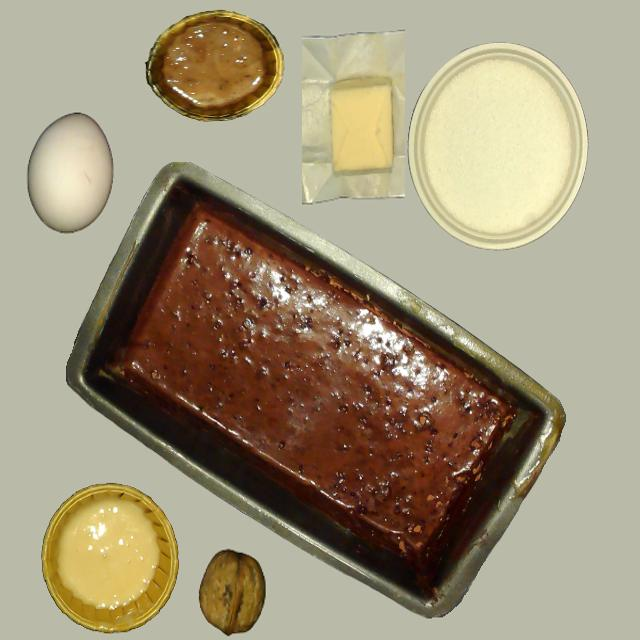Sugar: (407, 41, 587, 248)
Walnut: (190, 542, 273, 636)
